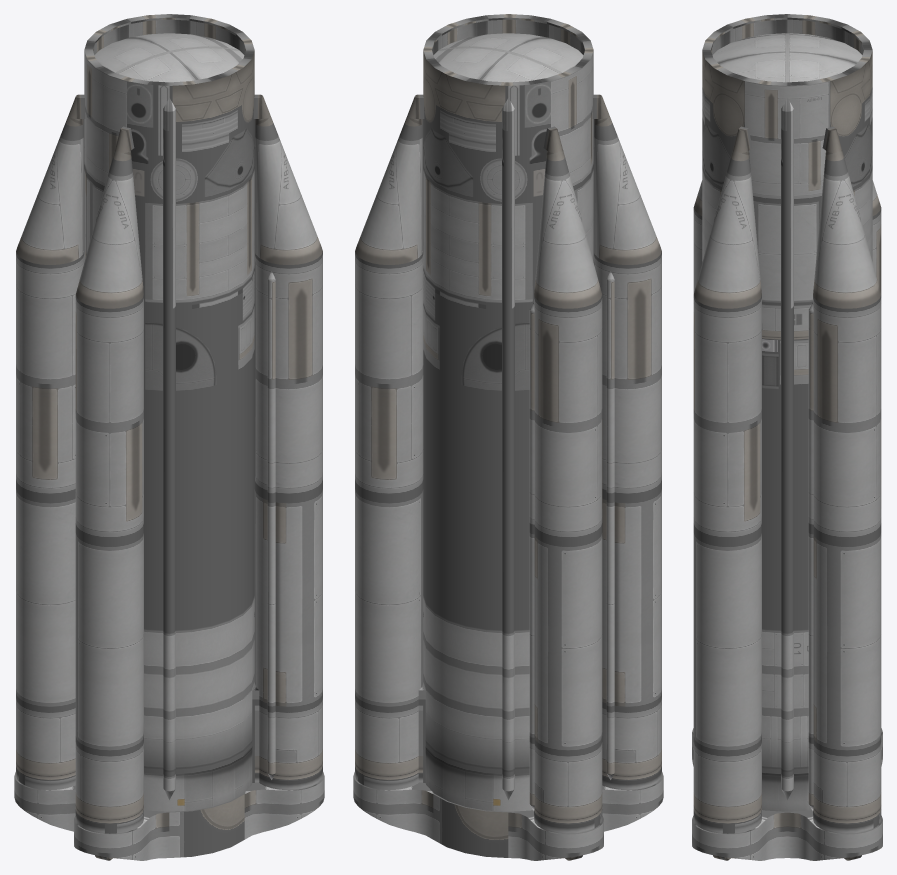
File: ALV_1_Engine_2.obj
3 renders of one model, left to right at view 1: azimuth 30°, elevation 25°; view 2: azimuth 150°, elevation 25°; view 3: azimuth 270°, elevation 25°, orthographic.
Visible parts, largest first — view 1: ALV_1_Engine_2, ALV_1_Engine_2_Core; view 2: ALV_1_Engine_2, ALV_1_Engine_2_Core; view 3: ALV_1_Engine_2, ALV_1_Engine_2_Core.
Part boxes in pixels (x1=…): ALV_1_Engine_2: x1=14, y1=94, x2=324, y2=860; ALV_1_Engine_2_Core: x1=84, y1=14, x2=254, y2=811; ALV_1_Engine_2: x1=353, y1=94, x2=663, y2=860; ALV_1_Engine_2_Core: x1=423, y1=14, x2=593, y2=811; ALV_1_Engine_2: x1=692, y1=126, x2=882, y2=860; ALV_1_Engine_2_Core: x1=702, y1=14, x2=872, y2=811.
Size of the model in its own units: 4.08 by 12.49 by 2.8.
